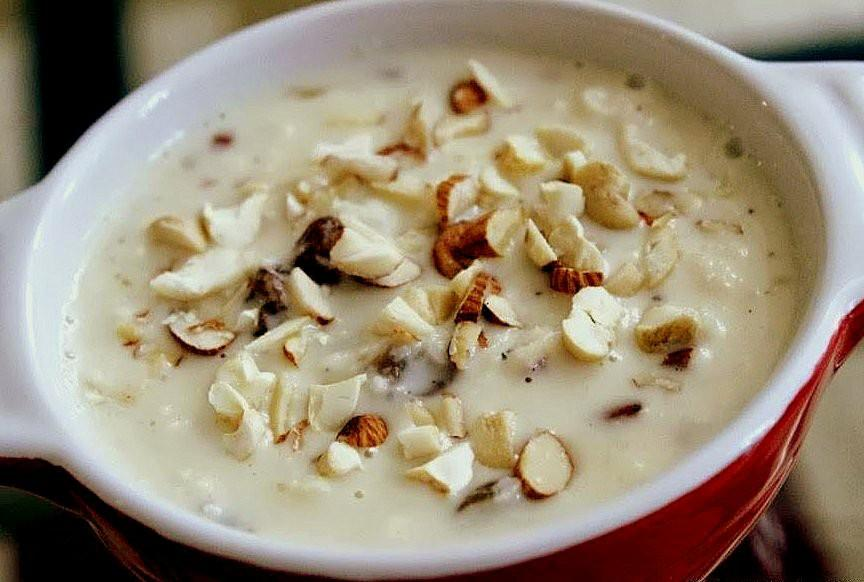Kheer: (72, 45, 790, 540)
